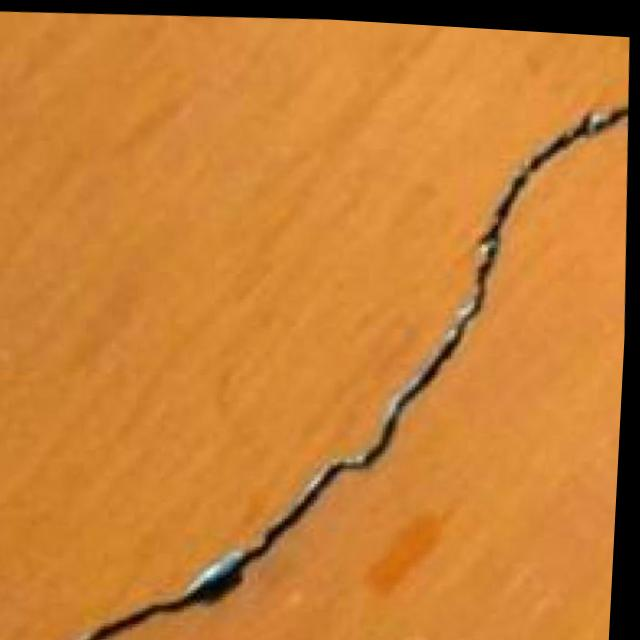Crack: (25, 55, 638, 640)
